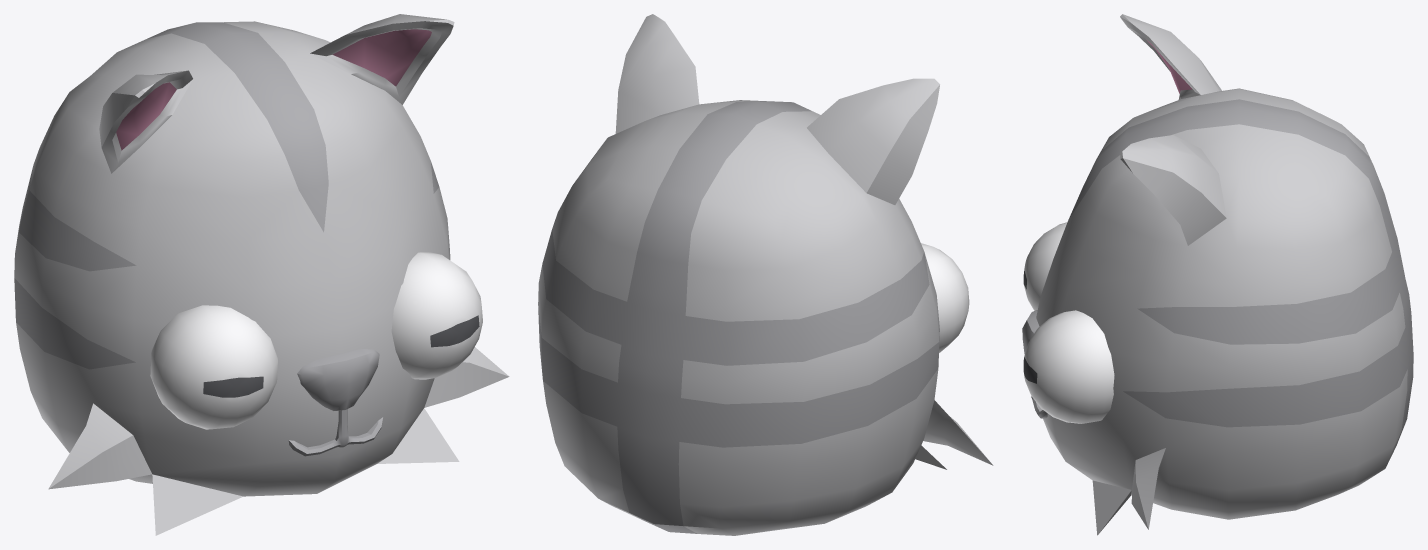
File: gris_cat.glb
3 renders of one model, left to right at view 1: azimuth 30°, elevation 25°; view 2: azimuth 150°, elevation 25°; view 3: azimuth 270°, elevation 25°, orthographic. The views are drawn at different scales.
Parts seen in each view (by area): view 1: Cat_Main, Cat_Secondary, Eye_White, Ears, Eye_Black; view 2: Cat_Main, Cat_Secondary, Eye_White; view 3: Cat_Main, Cat_Secondary, Eye_White.
Part boxes in pixels (left/top/right/bottom): Cat_Main: left=14, top=14, right=509, bottom=535; Cat_Secondary: left=14, top=22, right=439, bottom=456; Eye_White: left=150, top=252, right=482, bottom=429; Ears: left=116, top=29, right=431, bottom=150; Eye_Black: left=203, top=315, right=479, bottom=397; Cat_Main: left=538, top=14, right=993, bottom=535; Cat_Secondary: left=538, top=101, right=939, bottom=533; Eye_White: left=921, top=243, right=969, bottom=352; Cat_Main: left=1036, top=14, right=1407, bottom=535; Cat_Secondary: left=1022, top=99, right=1413, bottom=454; Eye_White: left=1024, top=222, right=1114, bottom=423.
Size of the model in its own units: 2.1 by 1.98 by 1.72.
